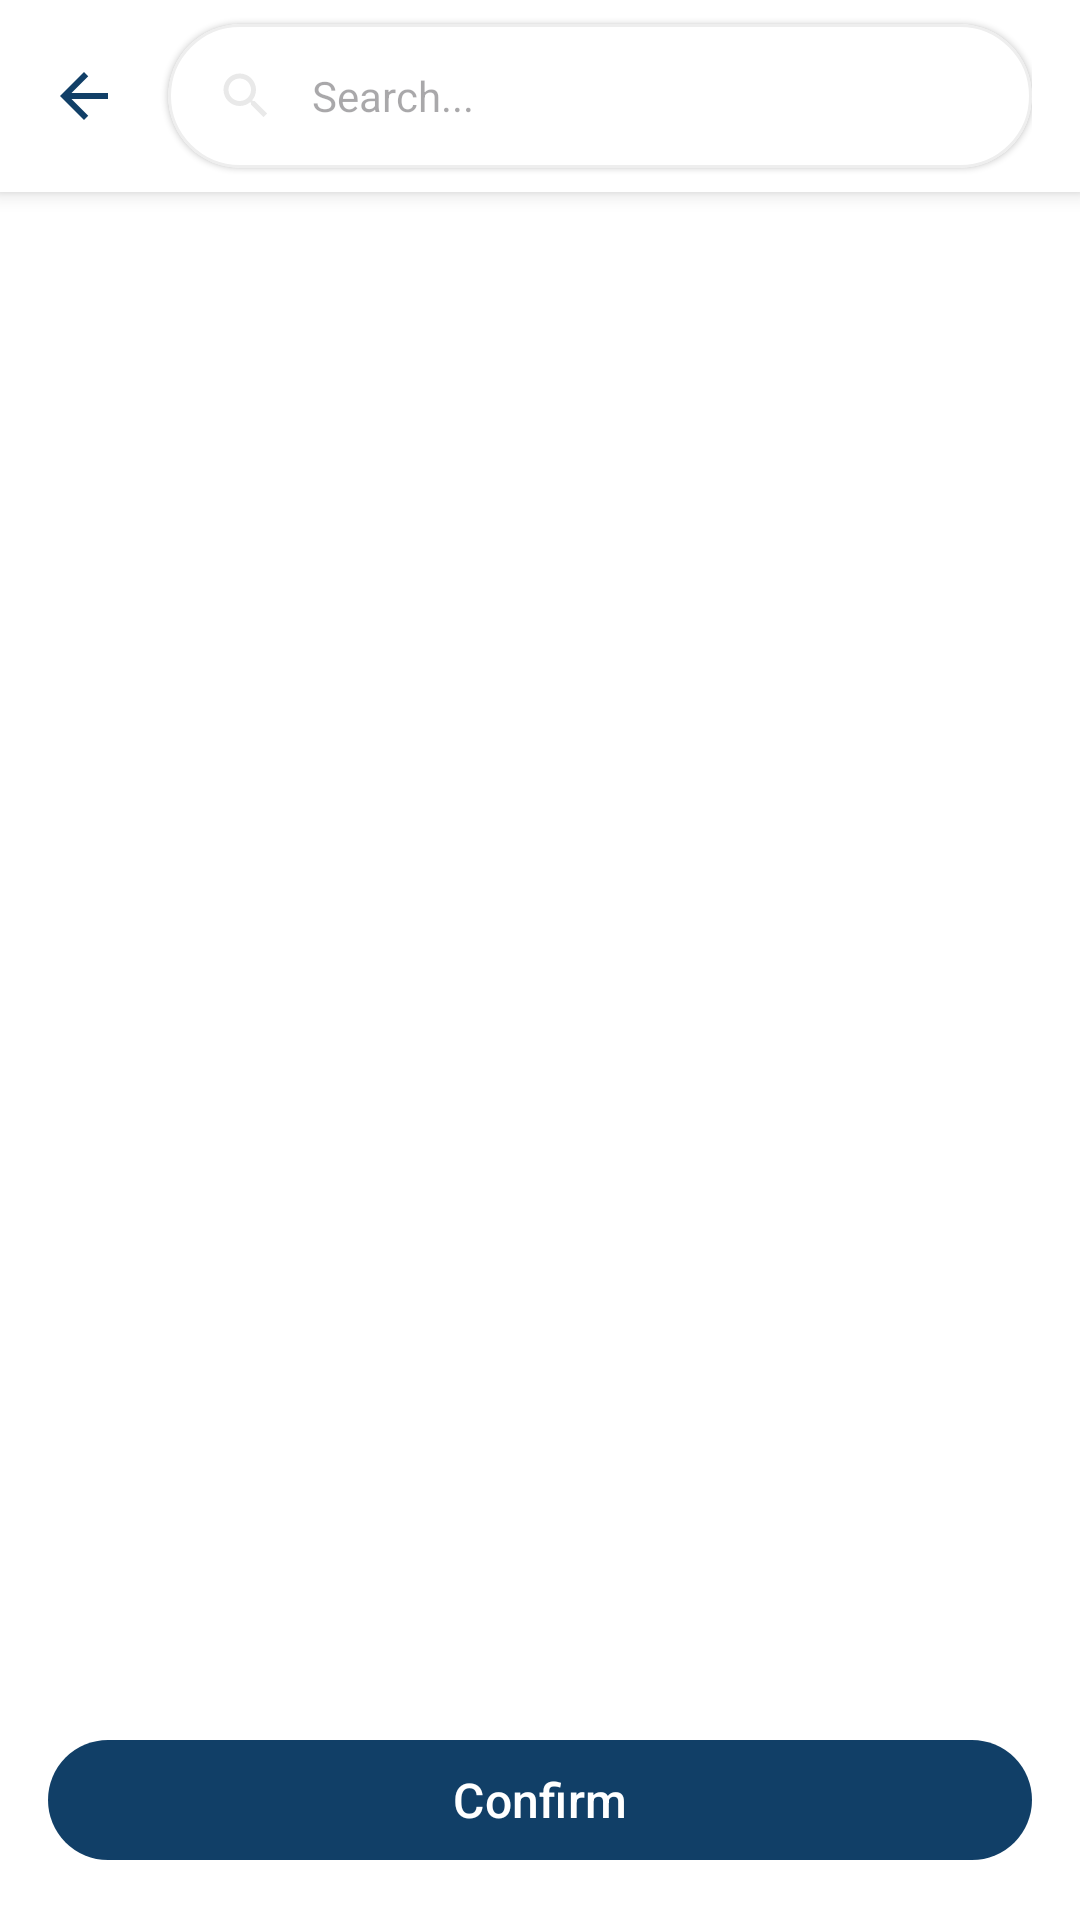

Named icons in this screenshot (1080px×1920px) and their bounding boxes, (x1, y1, x2, y2):
arrow back: (60, 72, 108, 120)
